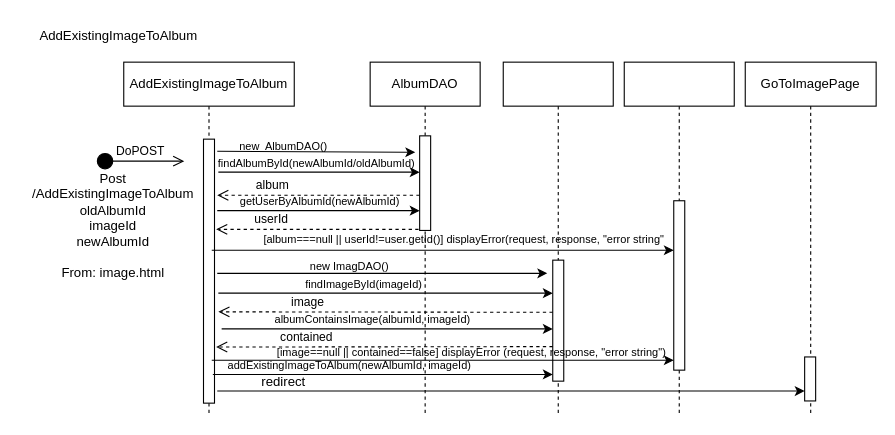
Image size: 895x435. Some labels were removed from this diagram. Each missing label, with the centre of its shape:
"ErrorHandler" belongs at pixel 678 238.
"ImageDAO" belongs at pixel 557 238.
